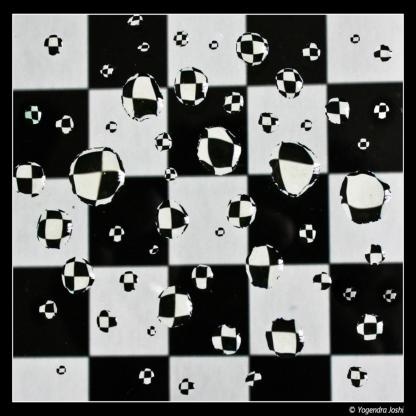Ball: (13, 16, 400, 395)
